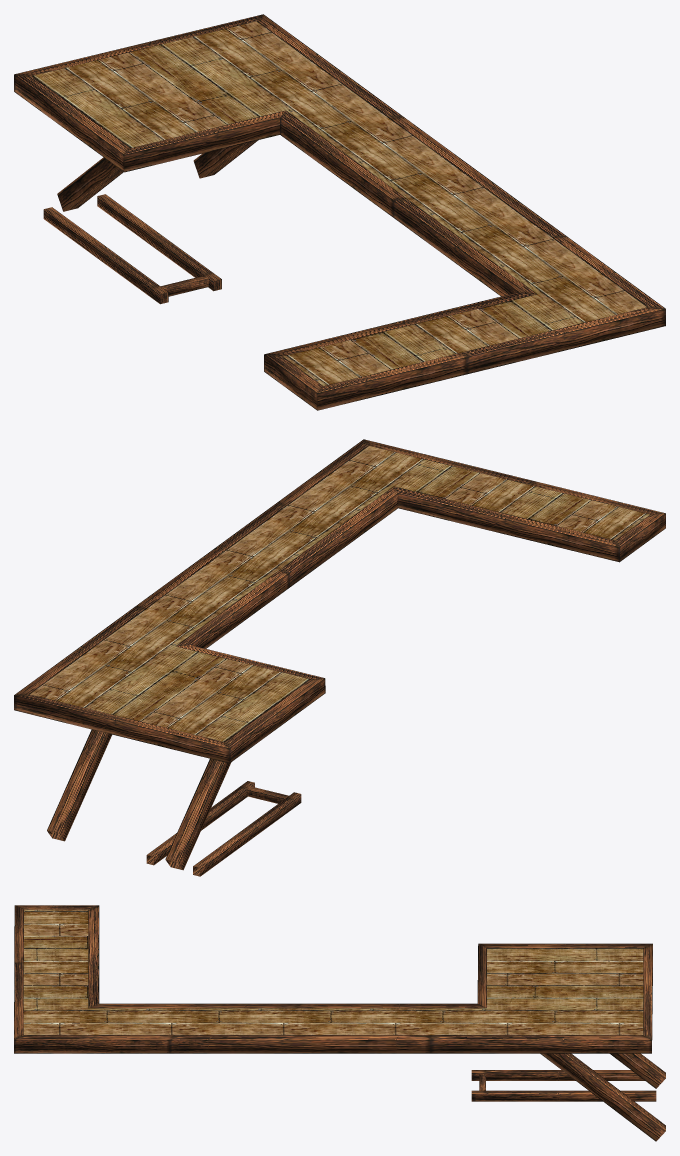
File: LAKETOWN_WAREHOUSE2_PS_WH2_BIGWALKWAY993__GX.fbx
3 renders of one model, top to bottom at view 1: azimuth 30°, elevation 25°; view 2: azimuth 150°, elevation 25°; view 3: azimuth 270°, elevation 25°, orthographic. The views are drawn at different scales.
Visible parts, largest first — view 1: LAKETOWN_WAREHOUSE2_PS_WH2_BIGWALKWAY993__GX; view 2: LAKETOWN_WAREHOUSE2_PS_WH2_BIGWALKWAY993__GX; view 3: LAKETOWN_WAREHOUSE2_PS_WH2_BIGWALKWAY993__GX.
Boxes of the visible parts, x1,y1,x2,y2 form: LAKETOWN_WAREHOUSE2_PS_WH2_BIGWALKWAY993__GX: (14,14,665,410); LAKETOWN_WAREHOUSE2_PS_WH2_BIGWALKWAY993__GX: (14,439,665,876); LAKETOWN_WAREHOUSE2_PS_WH2_BIGWALKWAY993__GX: (14,905,665,1141).
Size of the model in its own units: 41287 by 17432 by 84437.
Materials: 2 (2 with a texture image).
